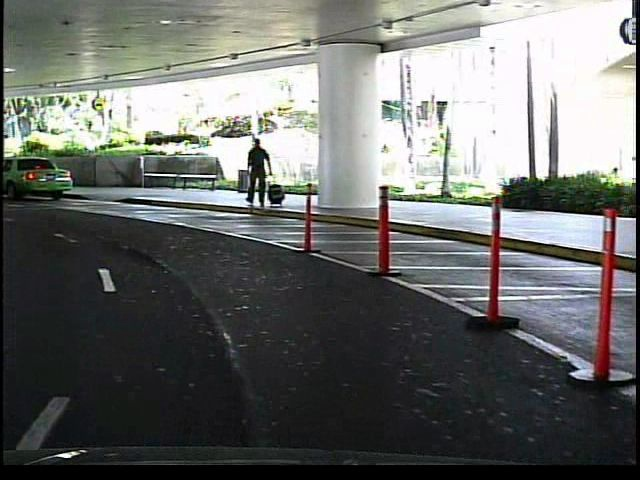person: (242, 133, 274, 211)
